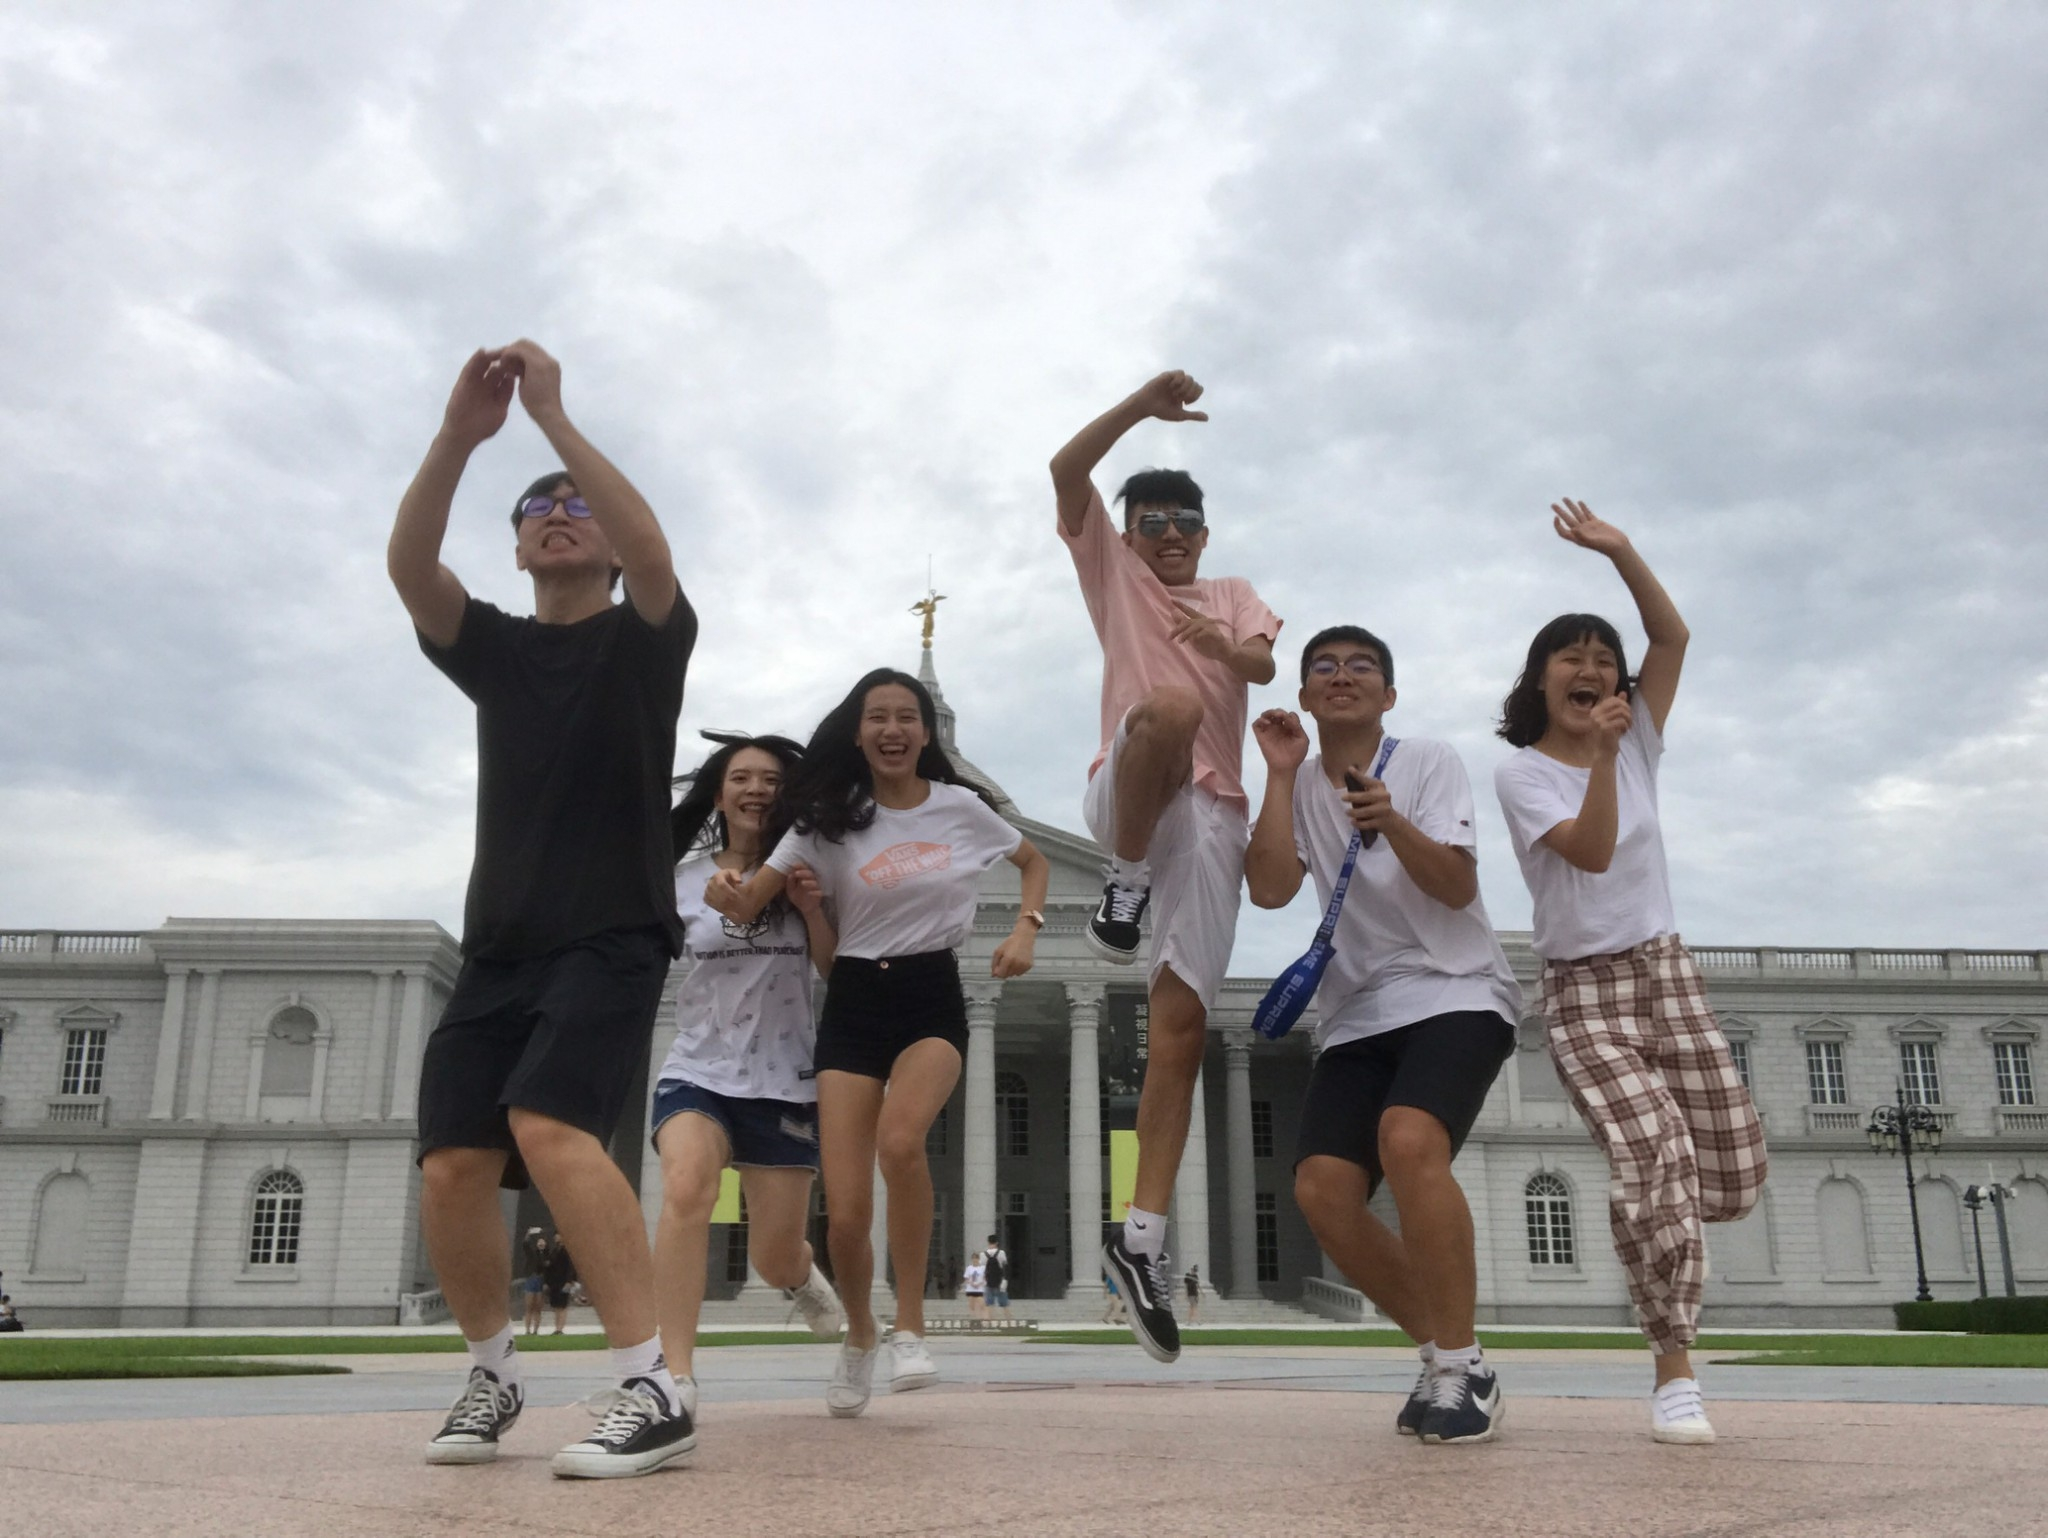people: (422, 470, 693, 1473), (1510, 614, 1787, 1464), (1272, 626, 1519, 1464), (1066, 473, 1254, 1373), (810, 659, 990, 1426), (666, 738, 822, 1438)
